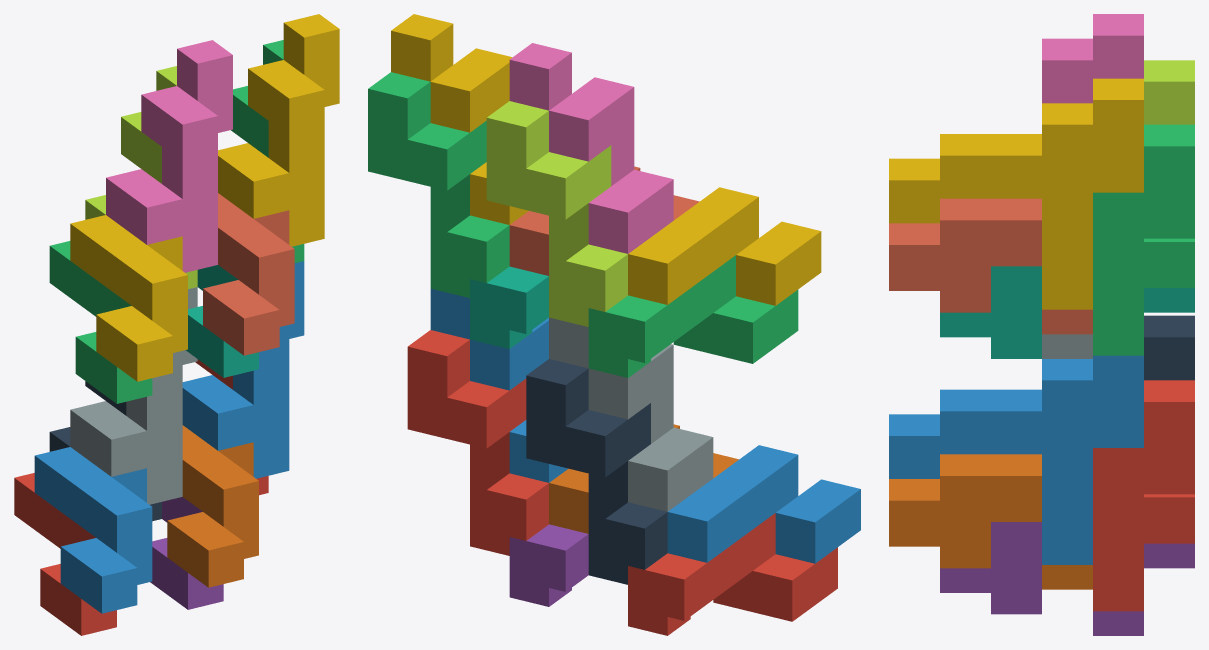
File: tiling.obj
The picture shows the model from 3 angles, left to right: view 1: azimuth 30°, elevation 25°; view 2: azimuth 150°, elevation 25°; view 3: azimuth 270°, elevation 25°; orthographic projection. The views are drawn at different scales.
Parts seen in each view (by area): view 1: copy_2_domain_4, copy_2_domain_8, copy_1_domain_2, copy_1_domain_4, copy_1_domain_8, copy_1_domain_6, copy_2_domain_6, copy_2_domain_2, copy_1_domain_3, copy_1_domain_1, copy_1_domain_5, copy_1_domain_7 (+3 smaller); view 2: copy_2_domain_1, copy_2_domain_3, copy_2_domain_7, copy_2_domain_5, copy_2_domain_4, copy_1_domain_2, copy_1_domain_4, copy_1_domain_3, copy_1_domain_1, copy_2_domain_2, copy_2_domain_8, copy_2_domain_6 (+4 smaller); view 3: copy_2_domain_5, copy_2_domain_7, copy_2_domain_8, copy_2_domain_6, copy_1_domain_8, copy_1_domain_6, copy_1_domain_2, copy_1_domain_4, copy_1_domain_5, copy_1_domain_7, copy_2_domain_4, copy_2_domain_1 (+2 smaller).
Boxes of the visible parts, left/top/right/bottom form: copy_2_domain_4: left=106, top=40, right=232, bottom=272; copy_2_domain_8: left=218, top=14, right=339, bottom=246; copy_1_domain_2: left=34, top=447, right=152, bottom=613; copy_1_domain_4: left=70, top=215, right=187, bottom=381; copy_1_domain_8: left=203, top=193, right=294, bottom=355; copy_1_domain_6: left=167, top=425, right=258, bottom=587; copy_2_domain_6: left=182, top=261, right=304, bottom=478; copy_2_domain_2: left=70, top=287, right=197, bottom=504; copy_1_domain_3: left=49, top=241, right=152, bottom=403; copy_1_domain_1: left=14, top=473, right=116, bottom=635; copy_1_domain_5: left=150, top=497, right=223, bottom=609; copy_1_domain_7: left=186, top=265, right=258, bottom=377; copy_2_domain_1: left=526, top=359, right=667, bottom=584; copy_2_domain_3: left=486, top=101, right=627, bottom=326; copy_2_domain_7: left=368, top=72, right=509, bottom=297; copy_2_domain_5: left=407, top=330, right=548, bottom=555; copy_2_domain_4: left=509, top=43, right=673, bottom=253; copy_1_domain_2: left=667, top=445, right=860, bottom=563; copy_1_domain_4: left=628, top=187, right=821, bottom=305; copy_1_domain_3: left=588, top=255, right=798, bottom=377; copy_1_domain_1: left=628, top=513, right=837, bottom=635; copy_2_domain_2: left=549, top=317, right=713, bottom=511; copy_2_domain_8: left=391, top=14, right=528, bottom=224; copy_2_domain_6: left=430, top=288, right=567, bottom=482; copy_2_domain_5: left=1093, top=380, right=1194, bottom=611; copy_2_domain_7: left=1093, top=124, right=1194, bottom=355; copy_2_domain_8: left=1042, top=78, right=1143, bottom=309; copy_2_domain_6: left=1042, top=355, right=1143, bottom=564; copy_1_domain_8: left=889, top=198, right=1092, bottom=334; copy_1_domain_6: left=889, top=454, right=1092, bottom=589; copy_1_domain_2: left=889, top=389, right=1041, bottom=478; copy_1_domain_4: left=889, top=134, right=1041, bottom=223; copy_1_domain_5: left=940, top=522, right=1194, bottom=635; copy_1_domain_7: left=940, top=266, right=1194, bottom=358; copy_2_domain_4: left=1042, top=14, right=1143, bottom=103; copy_2_domain_1: left=1144, top=315, right=1194, bottom=380.
Size of the model in its own units: 9 by 13 by 6.
